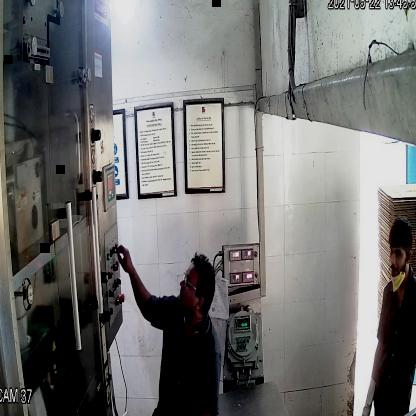goggles: (179, 270, 206, 300)
no_goggles: (386, 245, 410, 267)
